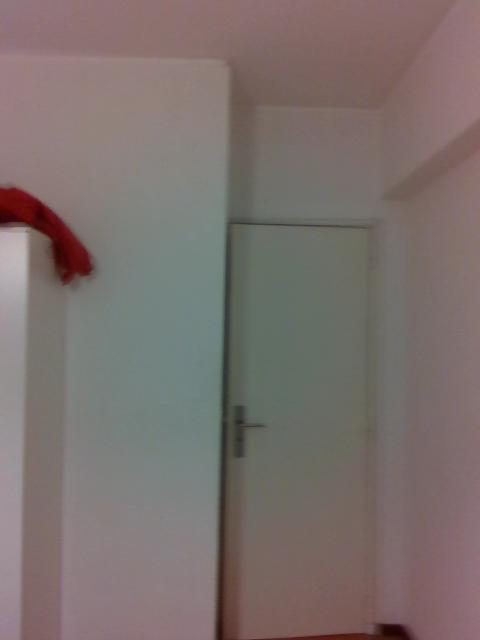door: (227, 219, 375, 634)
